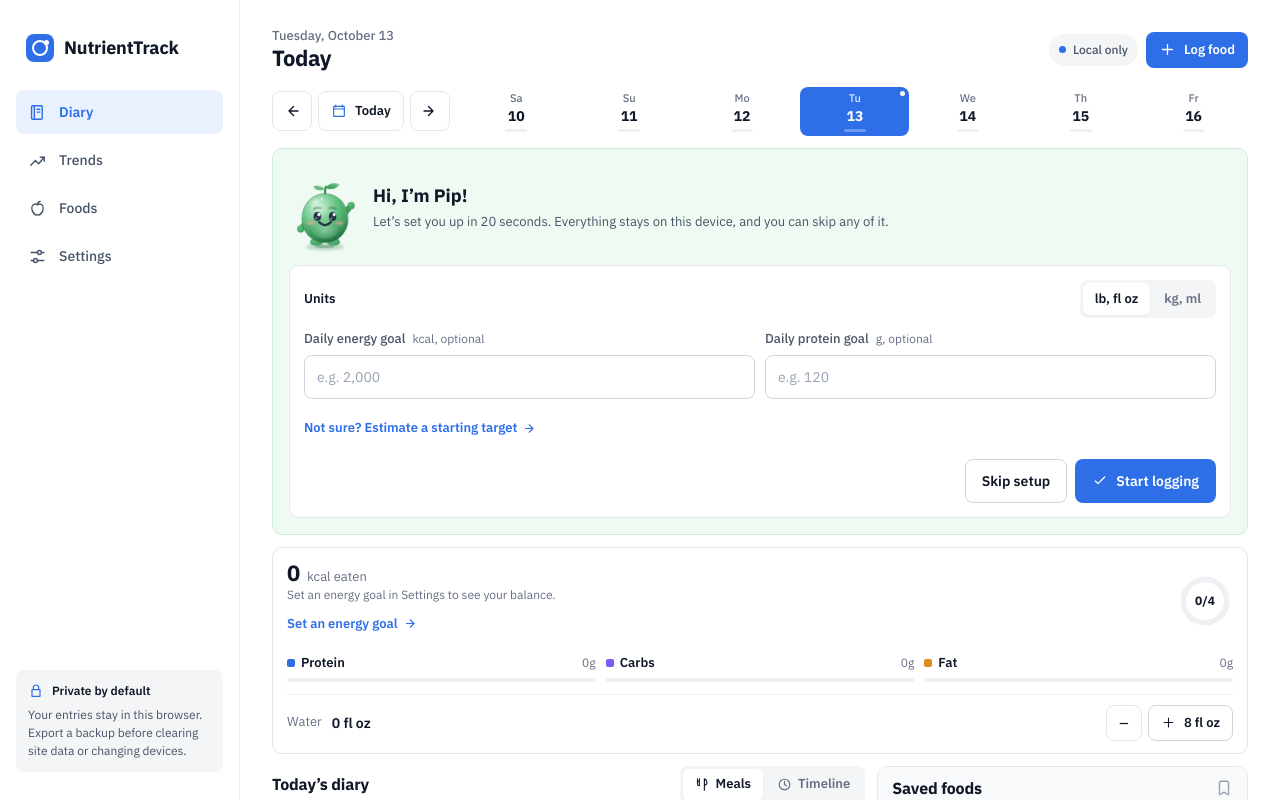
servings on a saved food › shows a Servings stepper at 1 with the stored values
Click the button "Foods" at (120, 208), box [16,186,223,230]
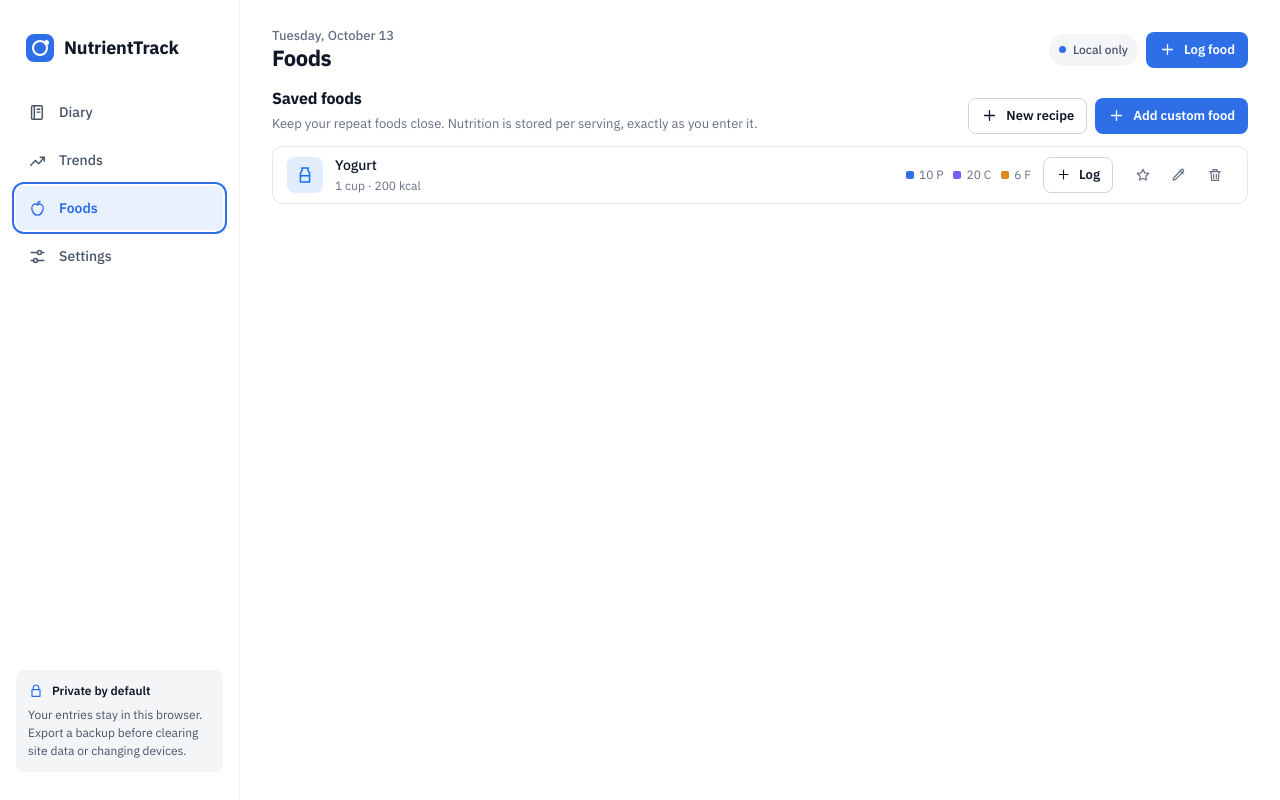
Click the button "Log" at (1078, 175), box [1043,157,1113,193]
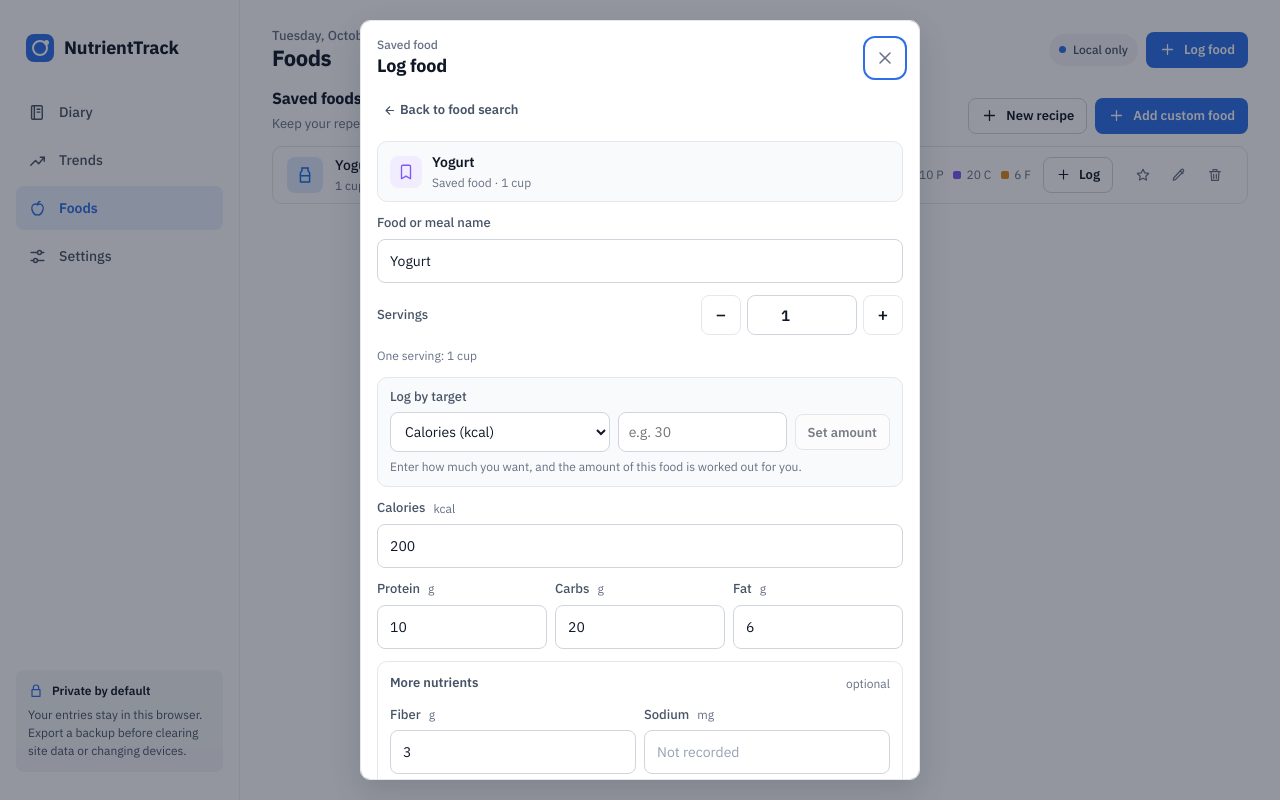
Check: the number field labelled "Servings" holds "1", box [747,295,857,335]
Check: the number field with id "entry-calories" holds "200", box [377,524,903,568]
Check: the number field with id "entry-fiber" holds "3", box [390,730,636,774]
